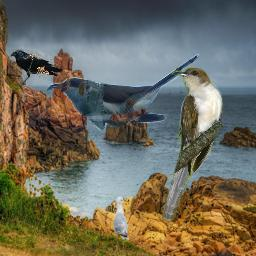Crow: (8, 49, 62, 85)
Cuckoo: (47, 53, 204, 131), (162, 67, 224, 221)
